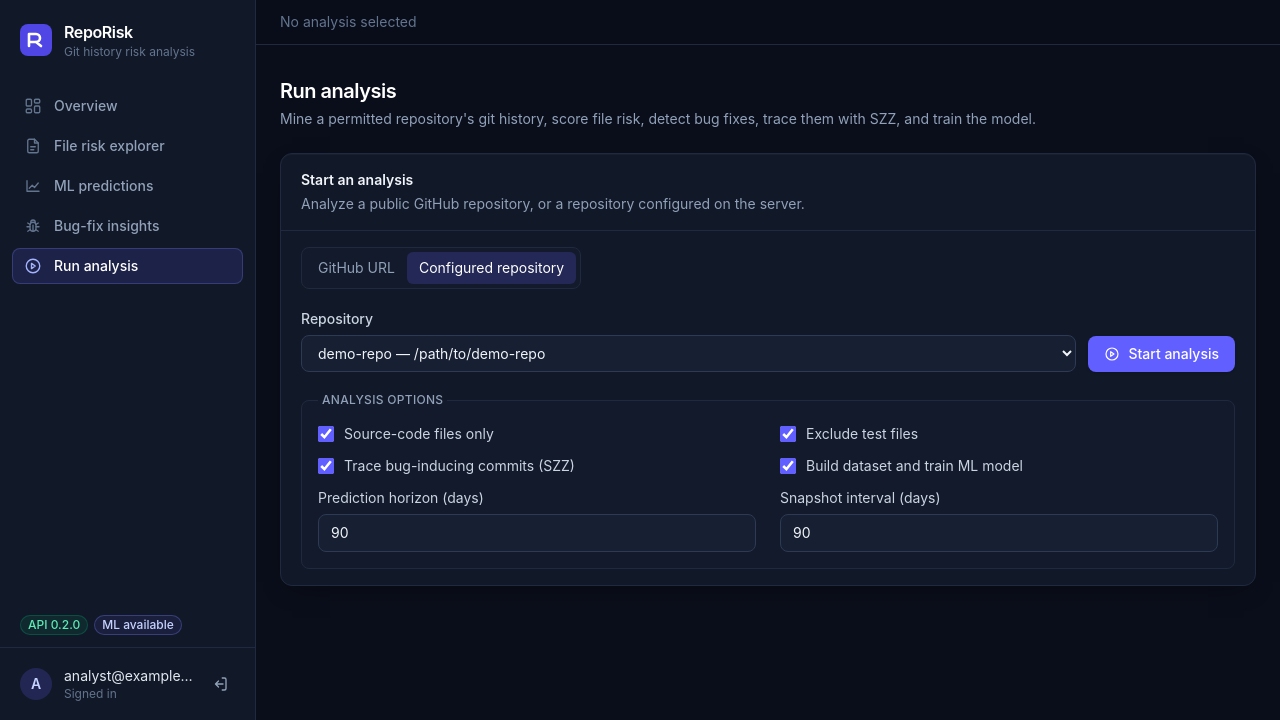
protected dashboard › shows API errors when an analysis cannot start
Click the button "Start analysis": (1162, 354) [1088,336,1235,372]
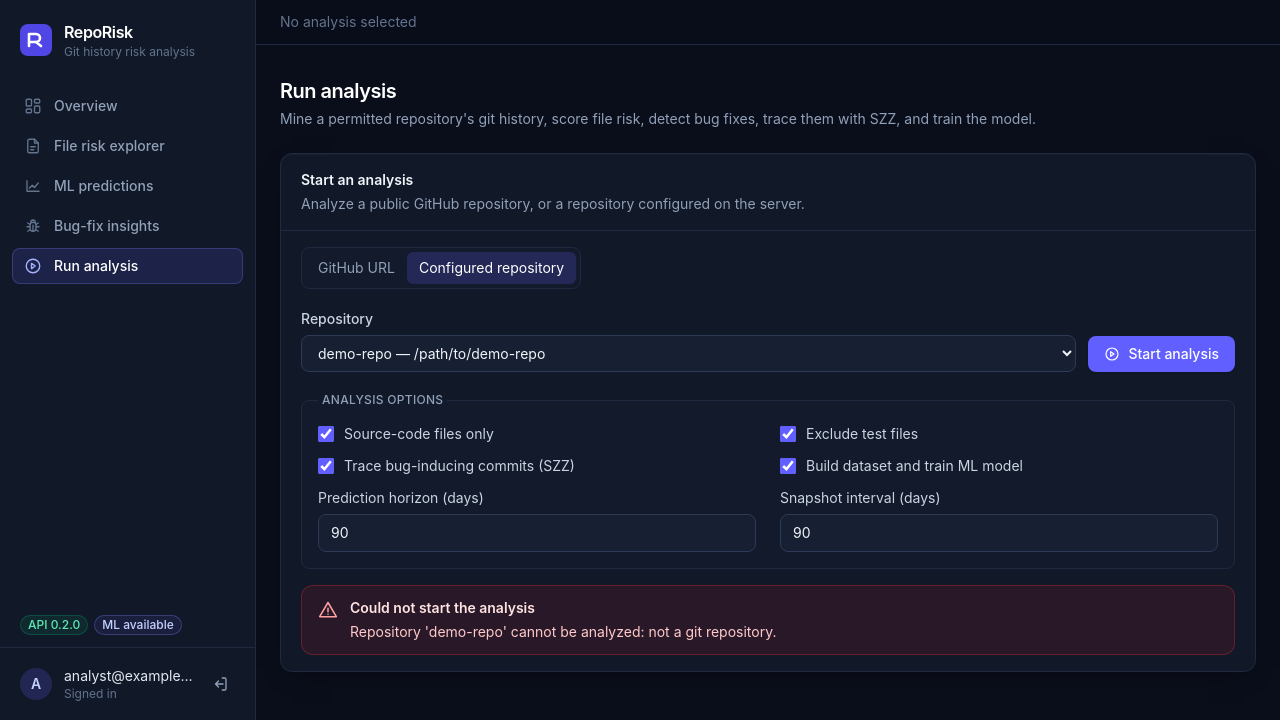
Expected: the message shows "not a git repository", [350,623,776,640]
